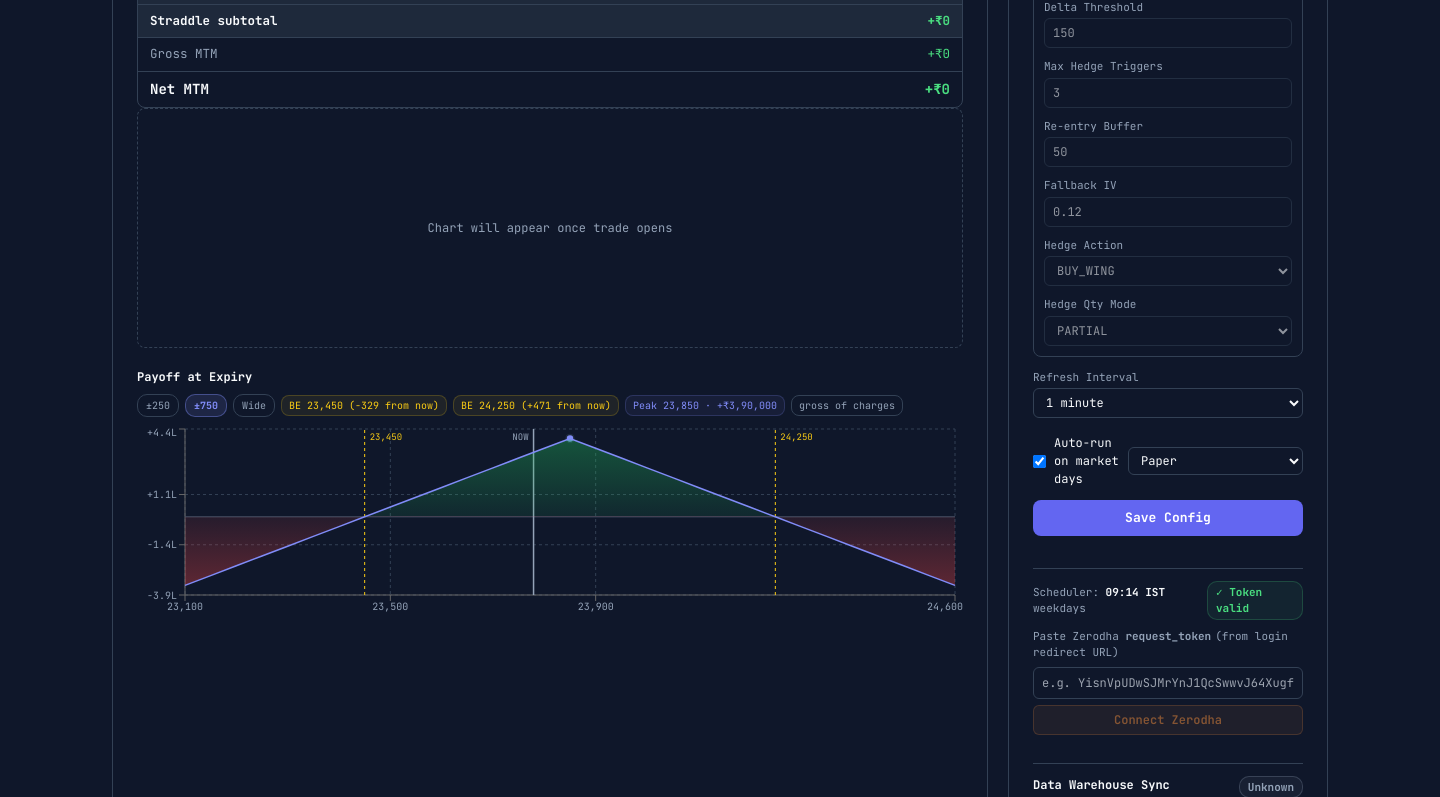
LivePaperMonitor payoff chart › actually applies the selected range, not just the button state
The image size is (1440, 797).
(page scrolled)
Check: the text "BE 23,450 (−329 from now)" is shown, box [281, 395, 447, 416]
Check: the text "BE 24,250 (+471 from now)" is shown, box [453, 395, 619, 416]
Click the button "±250". click: [158, 406]
box: [137, 394, 179, 417]
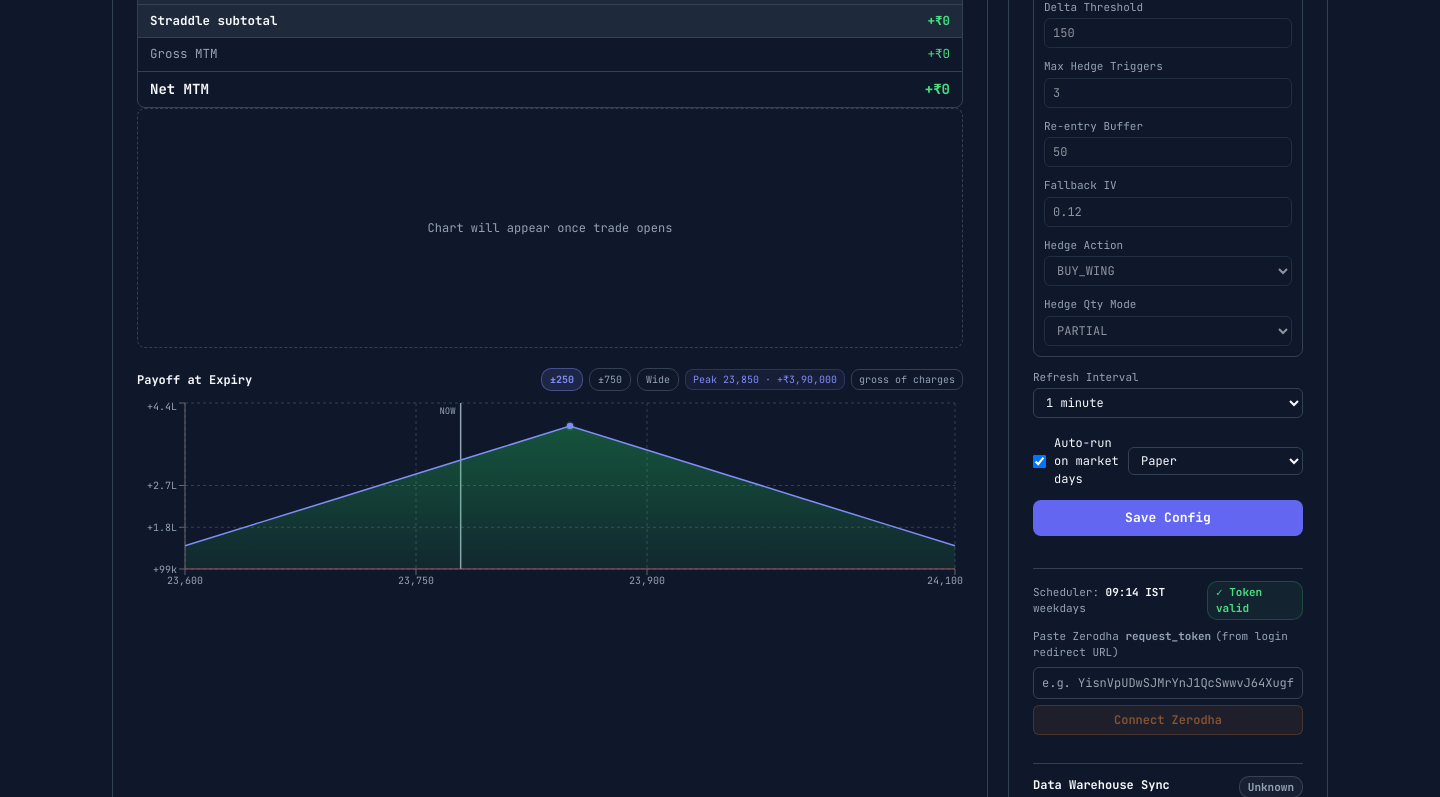
Check: the text "BE 23,450" is gone
Check: the text "BE 24,250" is gone
Click the button "Wide". click: [658, 380]
box: [637, 368, 679, 391]
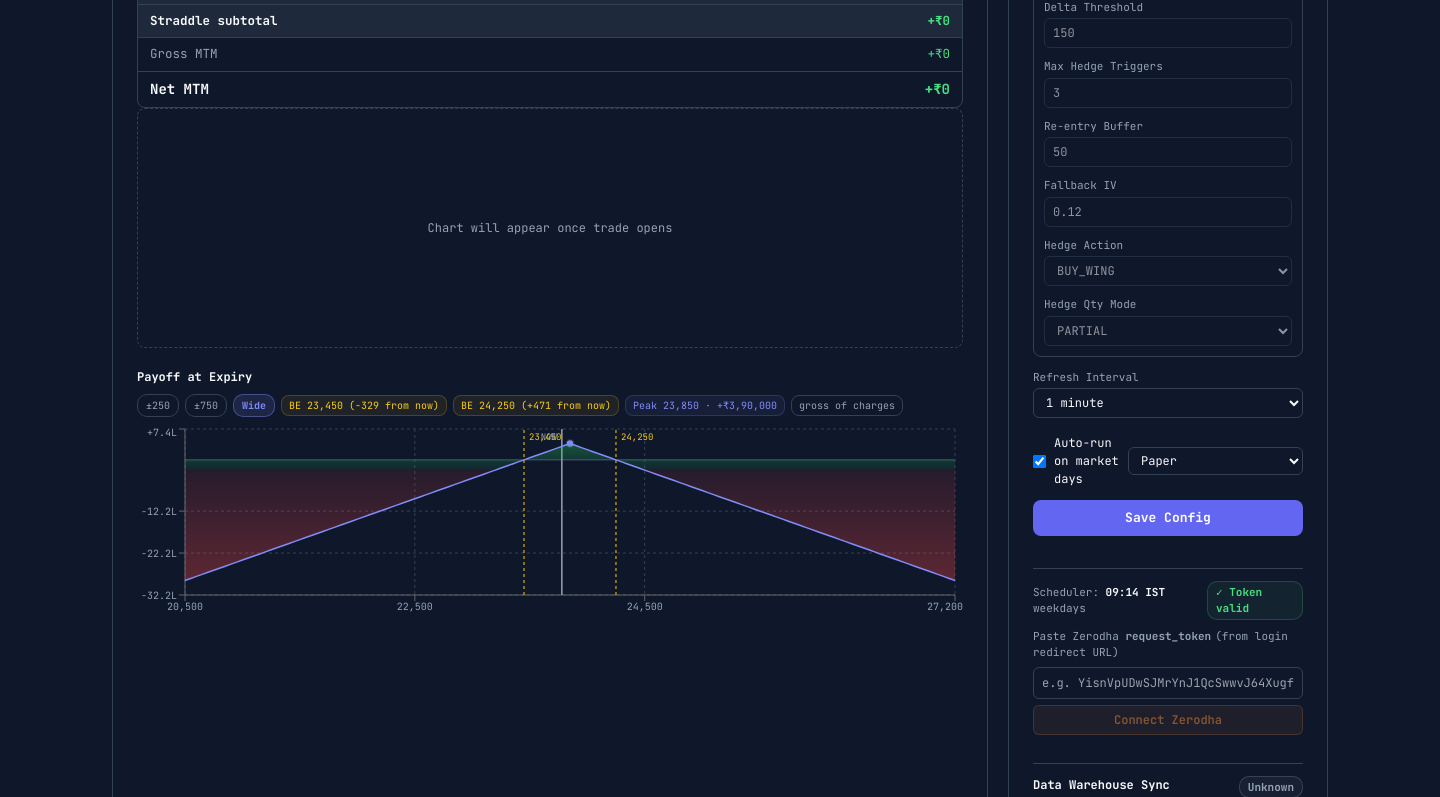
Check: the text "BE 23,450 (−329 from now)" is shown, box [281, 395, 447, 416]
